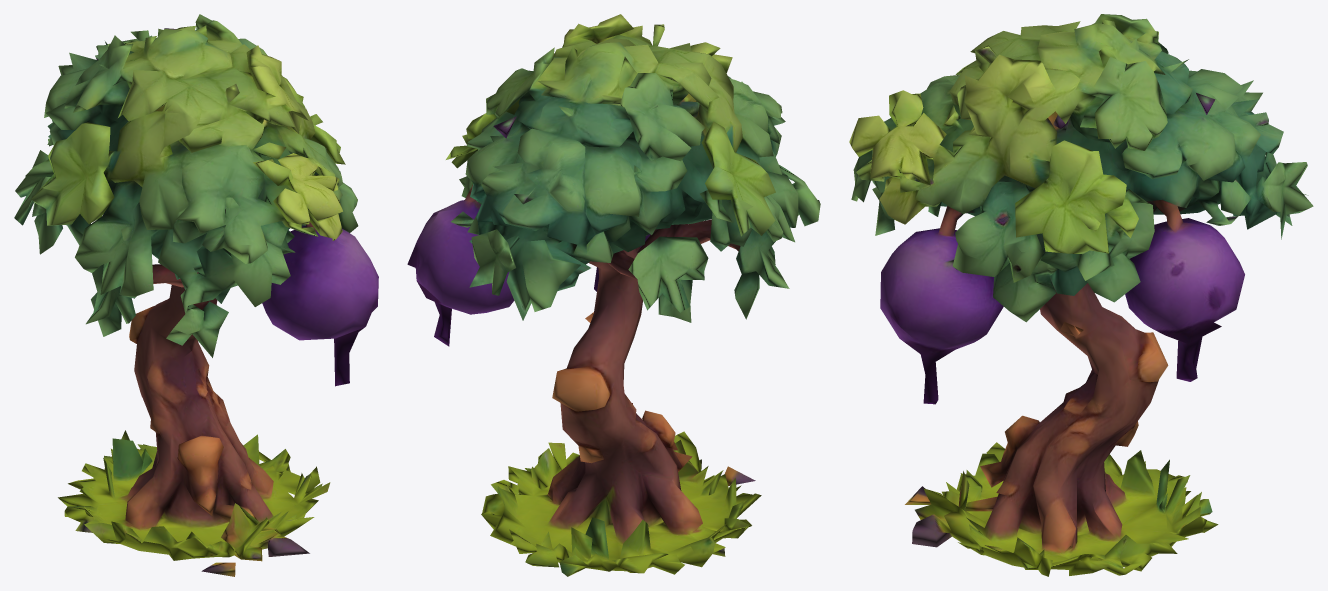
The model's file is prop_rotten_fruit_bush_model.glb.
The picture shows the model from 3 angles, left to right: view 1: azimuth 30°, elevation 25°; view 2: azimuth 150°, elevation 25°; view 3: azimuth 270°, elevation 25°; orthographic projection. The views are drawn at different scales.
Parts seen in each view (by area): view 1: tripo_node_337fafc3-3b54-43ff-ac63-a48845480258; view 2: tripo_node_337fafc3-3b54-43ff-ac63-a48845480258; view 3: tripo_node_337fafc3-3b54-43ff-ac63-a48845480258.
Part boxes in pixels (x1=…): tripo_node_337fafc3-3b54-43ff-ac63-a48845480258: x1=14, y1=14, x2=378, y2=576; tripo_node_337fafc3-3b54-43ff-ac63-a48845480258: x1=407, y1=14, x2=820, y2=576; tripo_node_337fafc3-3b54-43ff-ac63-a48845480258: x1=849, y1=14, x2=1313, y2=576.
Bounding box in the file's own units: 0.6461 × 1 × 0.8402.
Materials: 1 (1 with a texture image).
